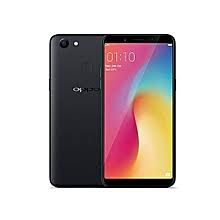oppo: (47, 31, 97, 192)
